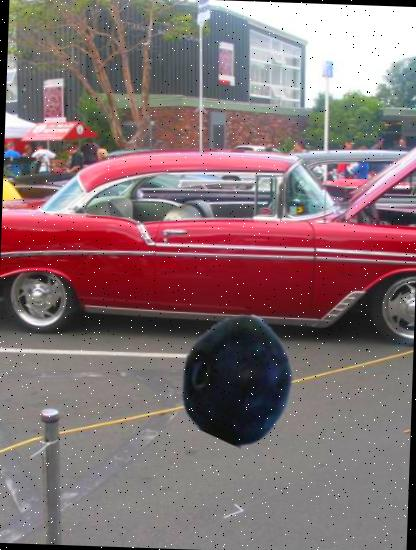Blueberry: (172, 312, 304, 444)
